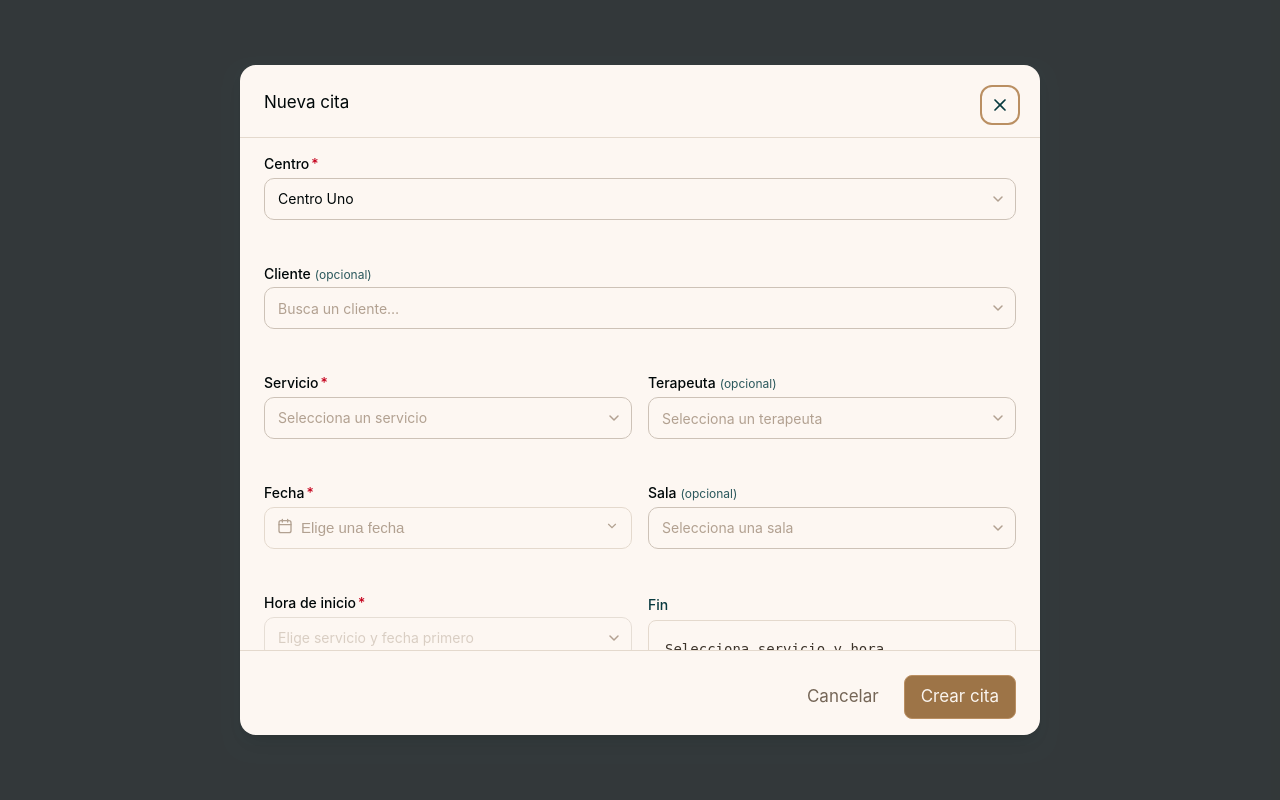
CitaModal — client-side validation › submitting with empty fields surfaces the first Zod rule error in a role="alert" banner
Click the button "Crear cita": (960, 697) 904,675 -> 1016,719
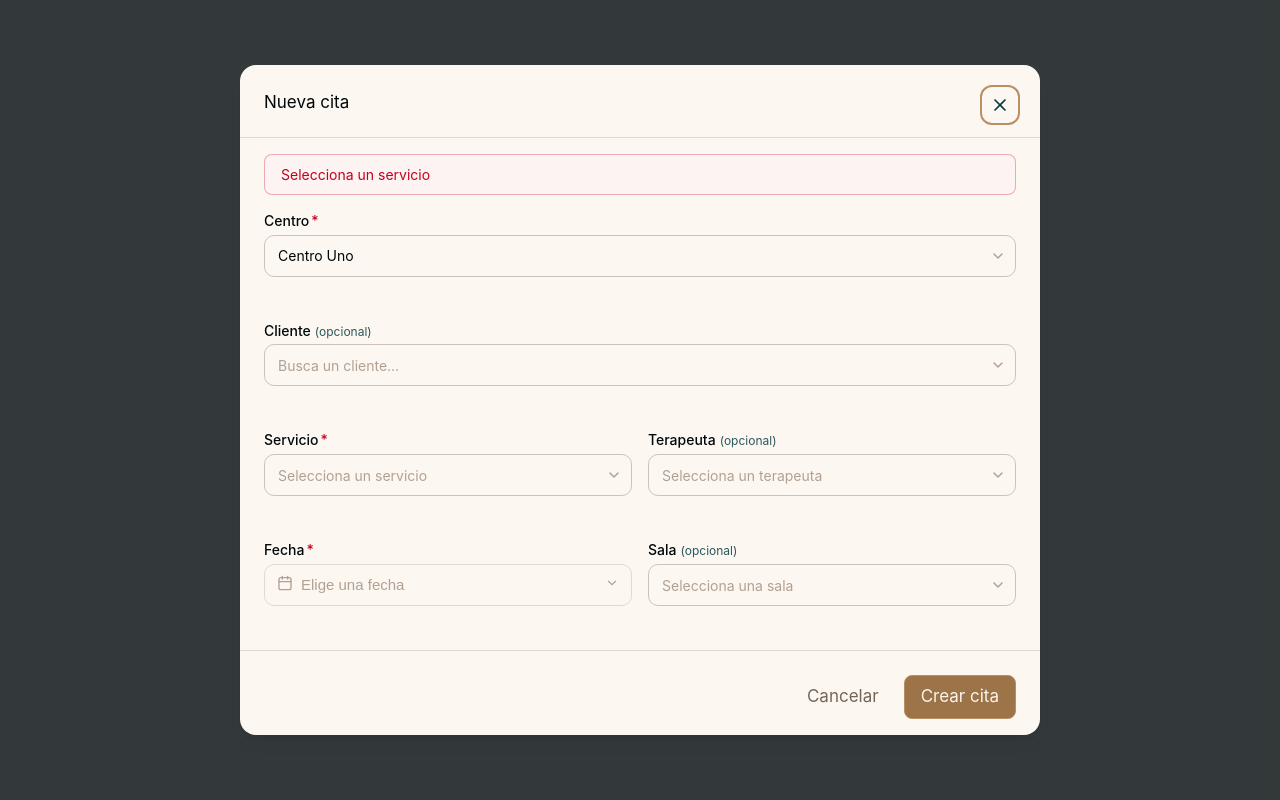
Check: the message "Selecciona un servicio" is shown, box 264,154 -> 1016,195
Check: the message reads "Selecciona un servicio", box 281,166 -> 430,183
